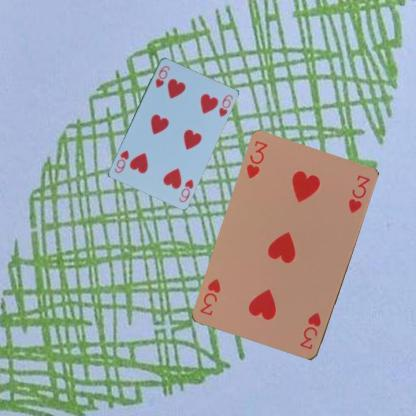3h: (244, 138, 269, 180), (297, 310, 322, 351)
6h: (176, 176, 195, 204), (153, 63, 171, 89)
